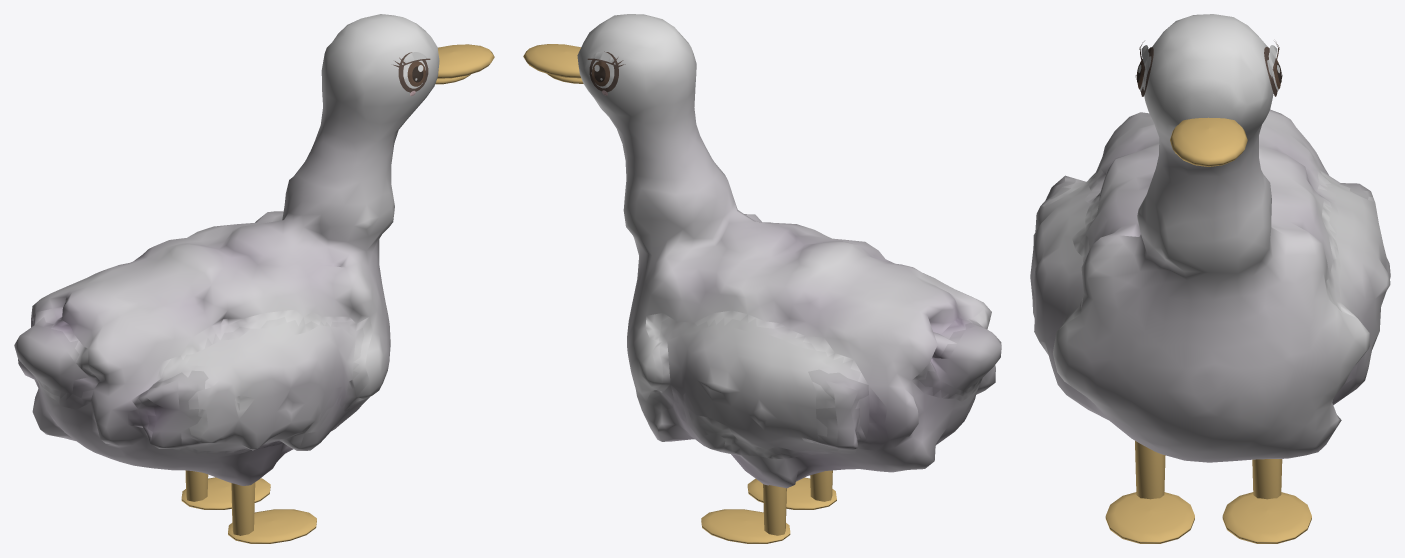
File: goose.glb
The picture shows the model from 3 angles, left to right: view 1: azimuth 30°, elevation 25°; view 2: azimuth 150°, elevation 25°; view 3: azimuth 270°, elevation 25°; orthographic projection. The views are drawn at different scales.
Parts seen in each view (by area): view 1: goose; view 2: goose; view 3: goose.
Part boxes in pixels (x1=…): goose: x1=14, y1=14, x2=494, y2=543; goose: x1=523, y1=14, x2=1001, y2=543; goose: x1=1030, y1=14, x2=1390, y2=543.
Size of the model in its own units: 0.7062 by 0.6639 by 0.3722.
